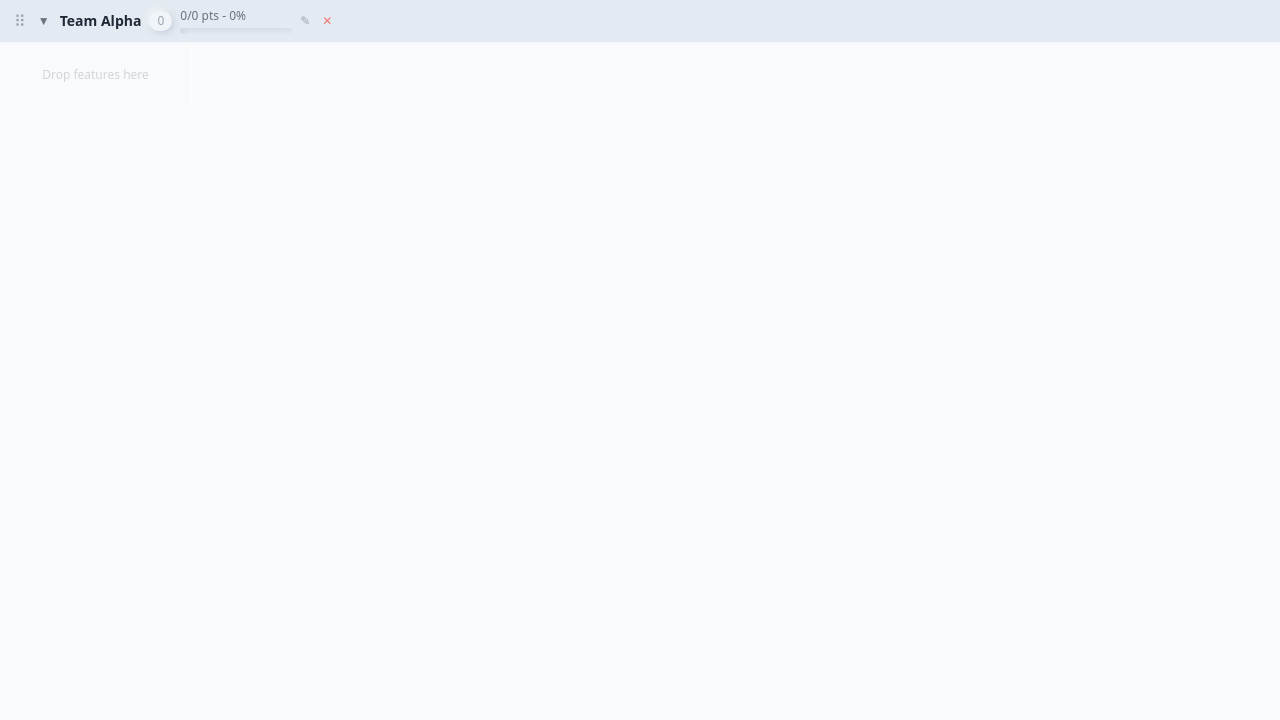
Test: SwimlaneRow › shows delete confirmation when delete clicked in edit mode
Click the button titled "Delete swimlane": (327, 21) [322,13,332,29]
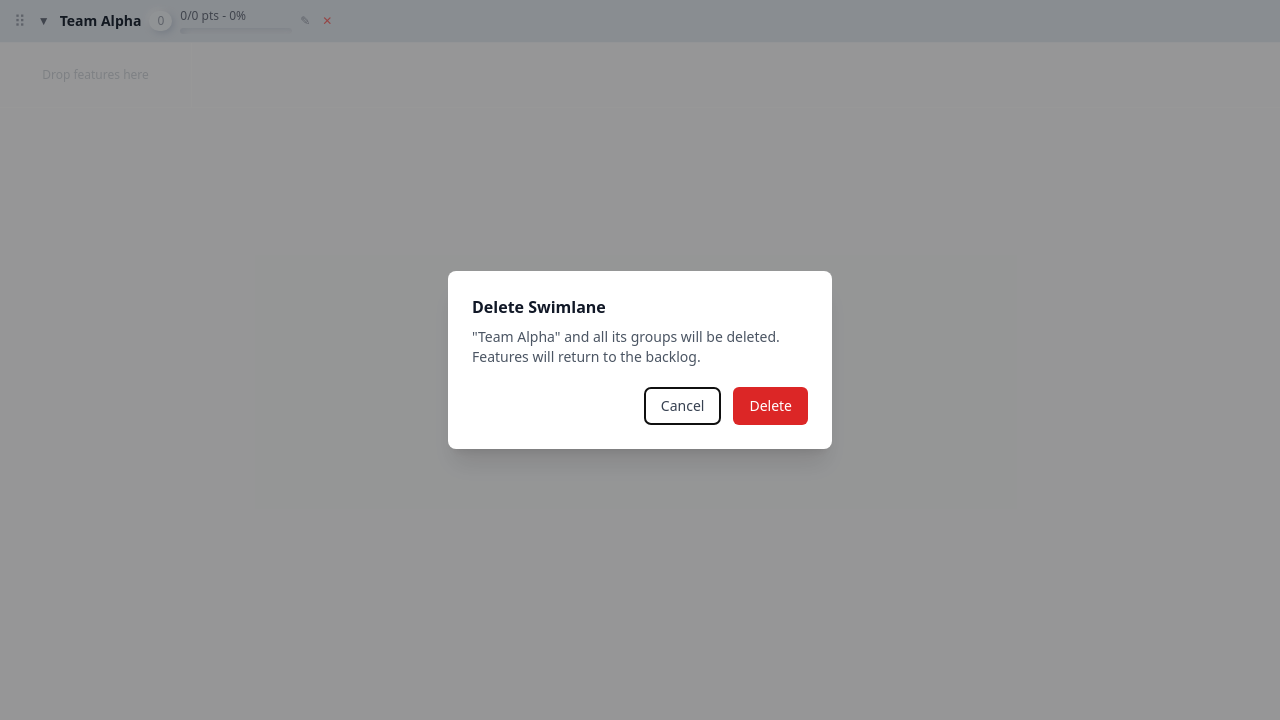
Check: the dialog is shown, box [448,271,832,449]
